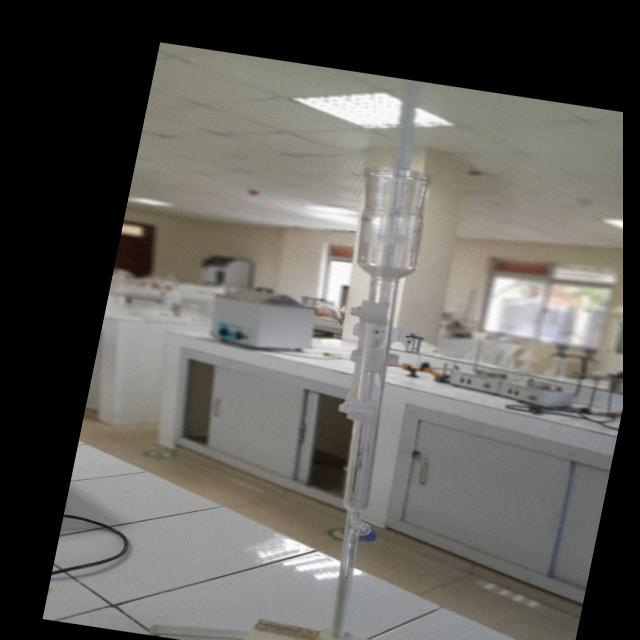Column Chromatography: (255, 160, 474, 640)
